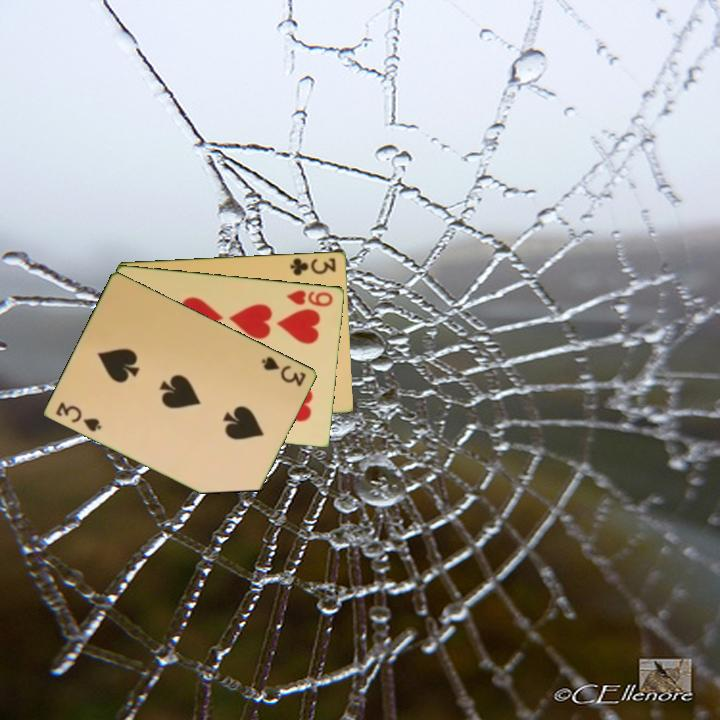3c: (287, 254, 339, 278)
3s: (52, 398, 105, 435), (258, 353, 309, 389)
9h: (283, 286, 336, 309)
